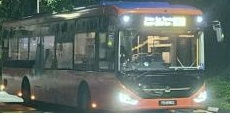bus: (171, 16, 186, 27)
